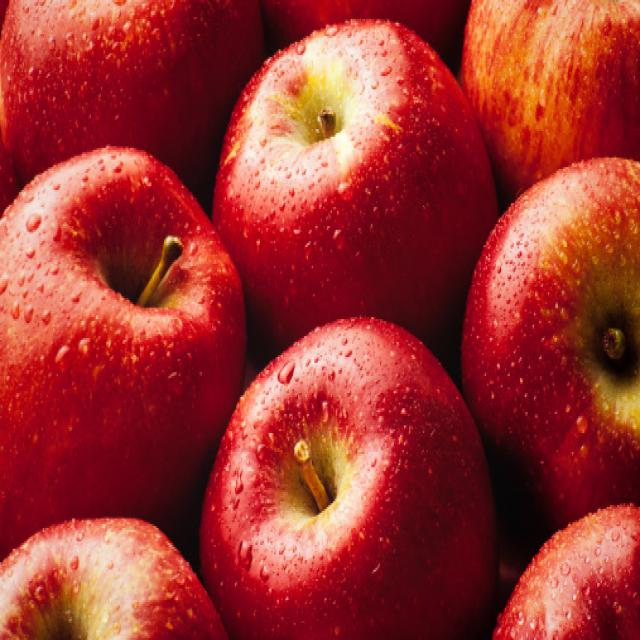Apple: (215, 17, 502, 422), (1, 148, 246, 574), (202, 313, 497, 640), (463, 154, 640, 579)
